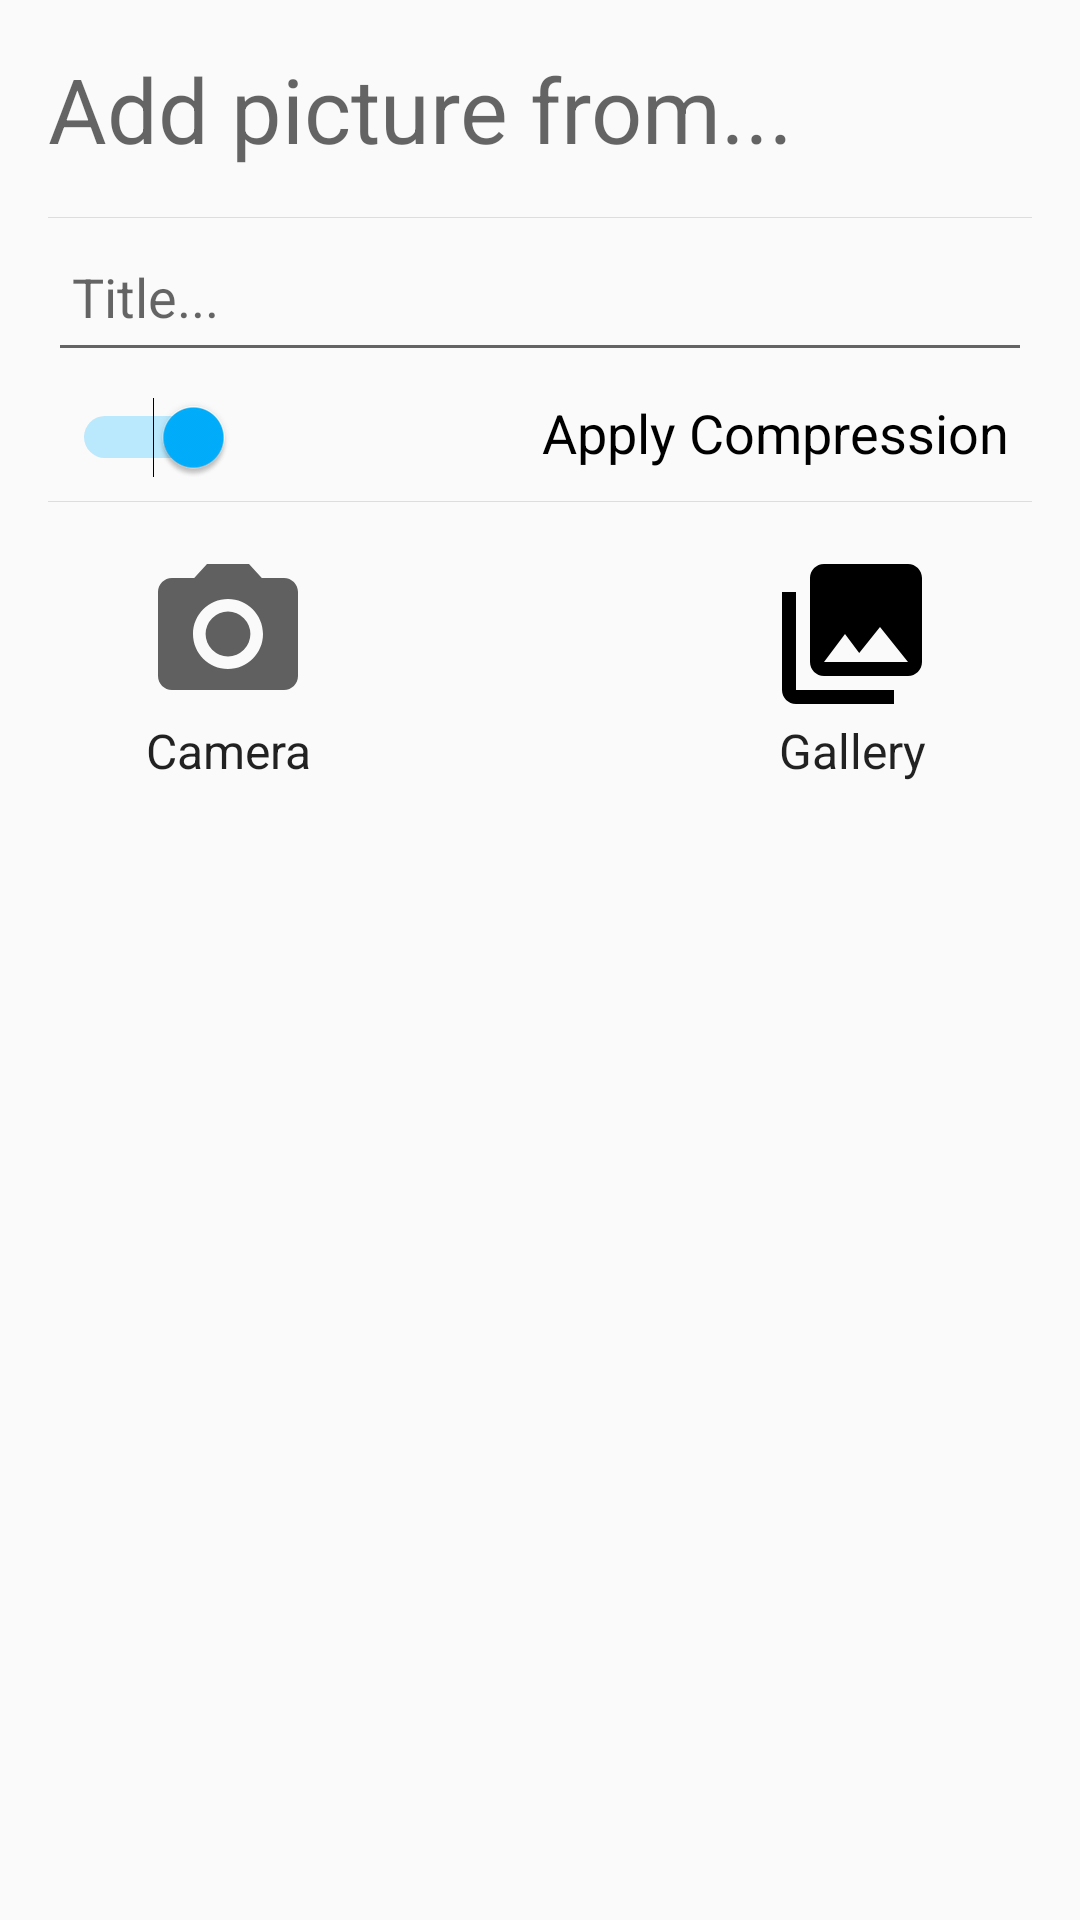

Screen size 1080w x 1920h. Icon name, then its box in pixels as region(x1, y1, x2, y2):
collections: region(782, 564, 922, 704)
